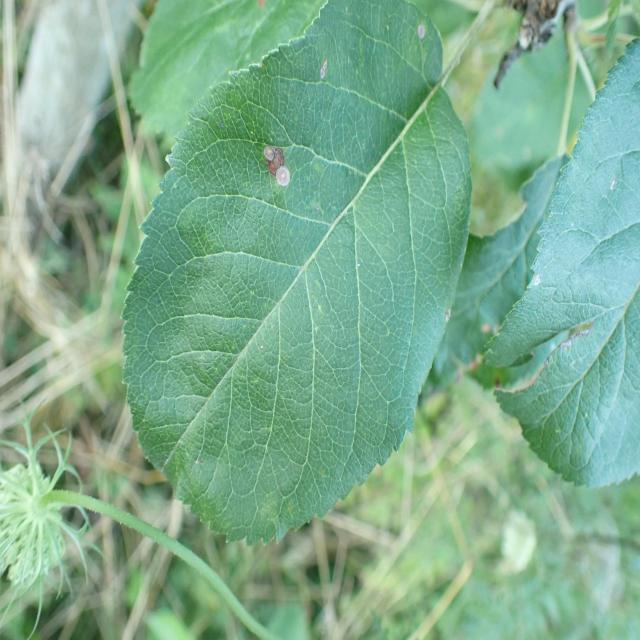Black Rot: (257, 121, 310, 205)
